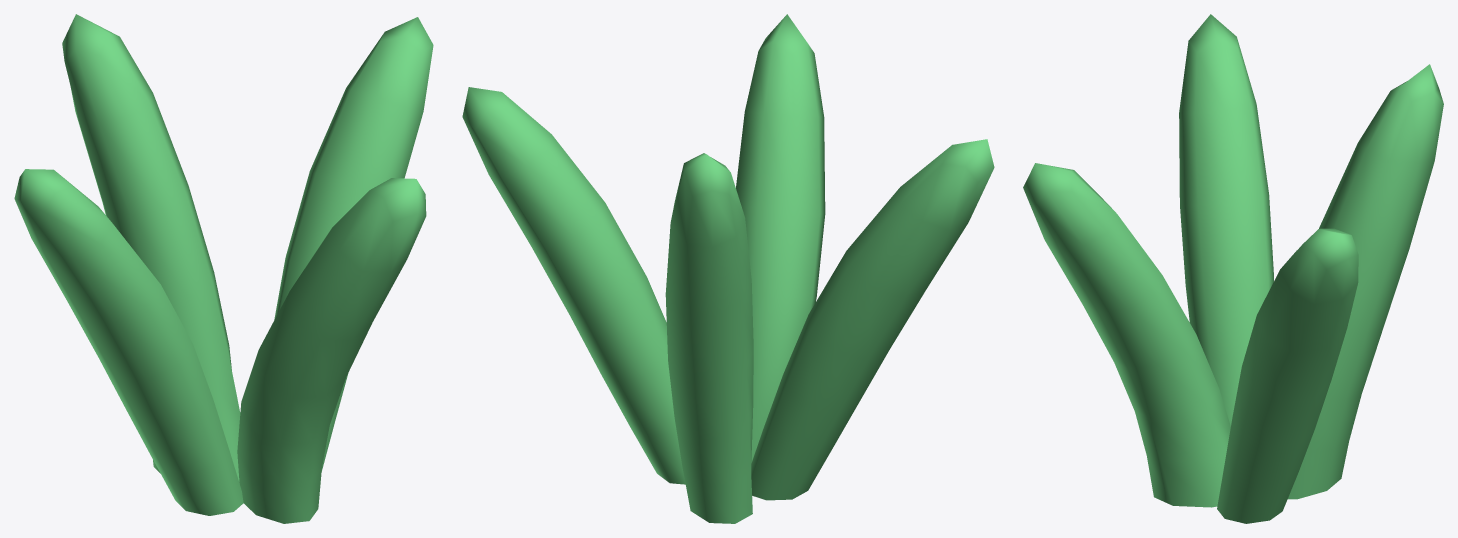
Rendered from Grass_A_03.fbx.
3 views of the same model, side by side, from view 1: azimuth 30°, elevation 25°; view 2: azimuth 150°, elevation 25°; view 3: azimuth 270°, elevation 25° (orthographic). The views are drawn at different scales.
Parts seen in each view (by area): view 1: Grass_A_03_LOD0; view 2: Grass_A_03_LOD0; view 3: Grass_A_03_LOD0.
Boxes of the visible parts, left/top/right/bottom form: Grass_A_03_LOD0: left=14, top=14, right=433, bottom=523; Grass_A_03_LOD0: left=462, top=14, right=994, bottom=523; Grass_A_03_LOD0: left=1023, top=14, right=1443, bottom=523.
Size of what is drawn, in the model's own units: 365 by 311 by 301.
